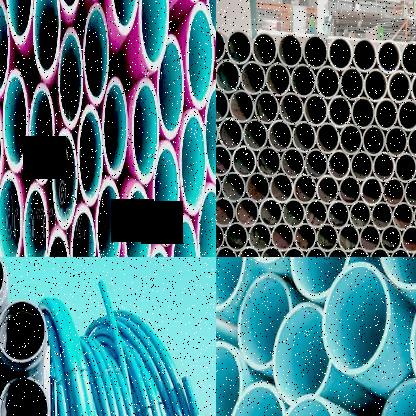pipe: (322, 262, 390, 376), (272, 303, 331, 405), (237, 273, 292, 371), (131, 77, 159, 185), (152, 141, 180, 247), (156, 34, 184, 140), (186, 3, 214, 108), (0, 299, 46, 362), (2, 67, 29, 173), (180, 110, 206, 214), (102, 76, 128, 179), (83, 3, 109, 106), (52, 128, 78, 230), (57, 27, 83, 128), (290, 257, 352, 299), (29, 82, 54, 184), (78, 104, 102, 206), (32, 0, 60, 80), (139, 0, 168, 72), (95, 178, 121, 257), (124, 182, 151, 257), (228, 382, 286, 416), (216, 342, 242, 416), (0, 376, 48, 416), (0, 170, 22, 257), (23, 182, 48, 257), (216, 257, 245, 313), (197, 184, 216, 257), (70, 205, 96, 257), (5, 0, 33, 46), (204, 79, 216, 185), (171, 215, 198, 257), (251, 30, 278, 66), (225, 28, 252, 64), (302, 33, 328, 69), (277, 31, 303, 67), (376, 38, 401, 74), (352, 36, 377, 72), (0, 0, 9, 99), (290, 63, 316, 97), (265, 62, 291, 96), (240, 61, 266, 94), (327, 94, 352, 128), (315, 64, 340, 98), (255, 90, 280, 124), (218, 116, 243, 150), (363, 68, 388, 102), (328, 35, 352, 70), (216, 58, 240, 93), (229, 90, 255, 122), (278, 92, 304, 124), (303, 93, 328, 126), (243, 118, 268, 151), (340, 66, 364, 100), (387, 70, 411, 104), (221, 171, 246, 203), (257, 146, 282, 178), (351, 96, 375, 129), (374, 97, 398, 130), (245, 172, 270, 203), (280, 146, 304, 178), (339, 123, 363, 155), (268, 120, 292, 152), (316, 122, 340, 154), (232, 145, 256, 177), (362, 124, 386, 156), (270, 172, 294, 204), (45, 228, 71, 257), (304, 148, 328, 179), (292, 121, 316, 152), (224, 222, 249, 251), (282, 198, 306, 228), (293, 174, 317, 204), (258, 198, 282, 228), (235, 198, 259, 228), (350, 150, 373, 181), (384, 126, 407, 157), (372, 151, 395, 182), (248, 222, 272, 251), (338, 175, 361, 205), (316, 174, 339, 204), (361, 176, 384, 206), (382, 176, 405, 206), (271, 222, 294, 252), (328, 149, 350, 180), (327, 200, 350, 229), (305, 199, 328, 228), (349, 200, 372, 229), (394, 152, 416, 182), (294, 222, 316, 252), (359, 223, 381, 252), (370, 201, 392, 230), (316, 223, 338, 252), (392, 202, 414, 231), (338, 223, 360, 252), (397, 98, 416, 131), (380, 225, 402, 252), (216, 196, 235, 227), (400, 40, 416, 75), (216, 144, 232, 176), (216, 87, 229, 121), (401, 225, 416, 253), (207, 0, 216, 43), (216, 26, 226, 61), (404, 178, 416, 207), (237, 245, 261, 257), (407, 126, 416, 157), (304, 246, 327, 257), (282, 246, 305, 257), (260, 246, 283, 257), (216, 246, 238, 257), (216, 221, 224, 251), (326, 247, 348, 257), (348, 247, 369, 257), (369, 247, 390, 257), (389, 247, 410, 257), (410, 70, 416, 104), (216, 170, 221, 202)
